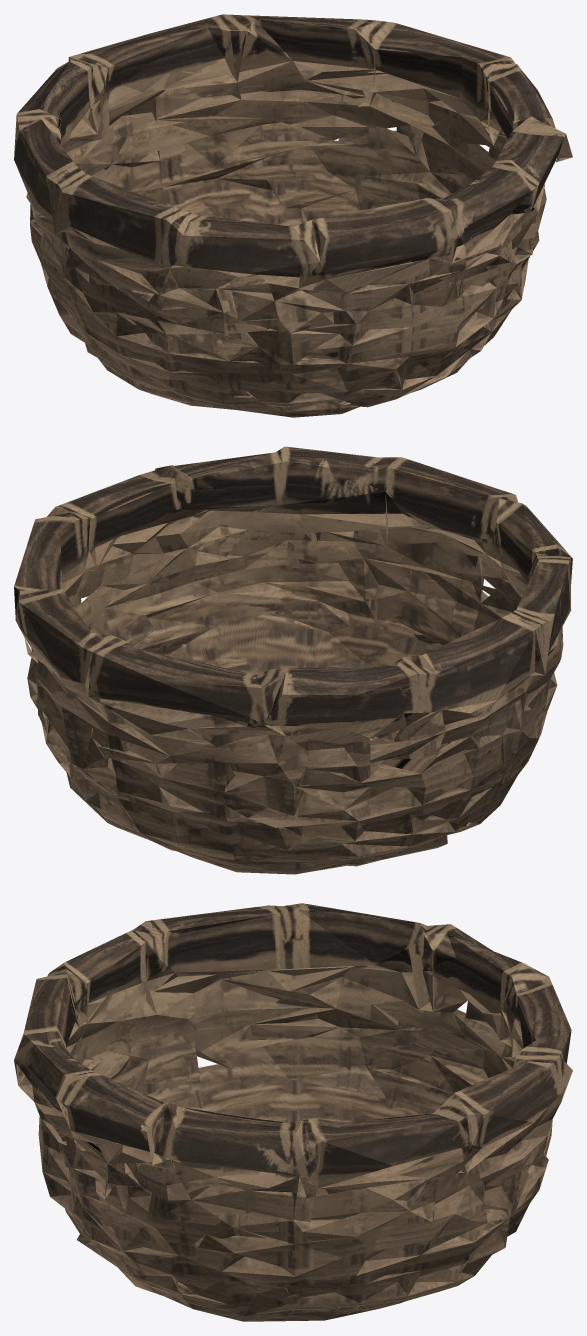
File: woven_basket.fbx
3 renders of one model, top to bottom at view 1: azimuth 30°, elevation 25°; view 2: azimuth 150°, elevation 25°; view 3: azimuth 270°, elevation 25°, orthographic. The views are drawn at different scales.
Visible parts, largest first — view 1: output_unwrapped; view 2: output_unwrapped; view 3: output_unwrapped.
Part boxes in pixels (box(x1,y1,x2,y2)): output_unwrapped: box(14, 14, 572, 417); output_unwrapped: box(14, 446, 572, 874); output_unwrapped: box(14, 903, 572, 1321).
Bounding box in the file's own units: 184 × 86.97 × 183.
1 material, 1 textured.
